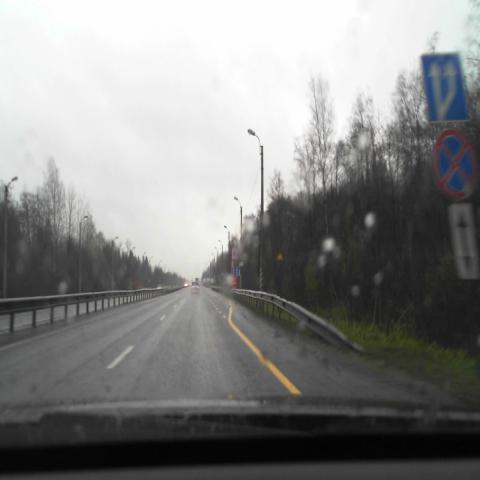8_2_4: (448, 201, 480, 278)
